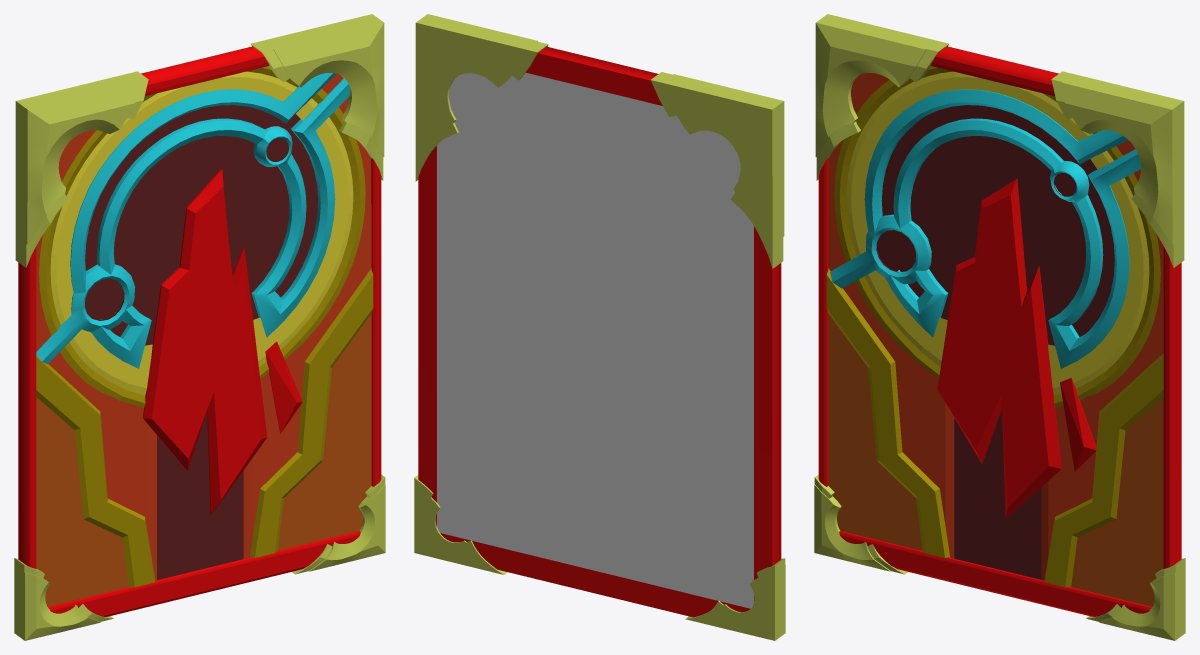
The model's file is cards 1.fbx.
3 renders of one model, left to right at view 1: azimuth 30°, elevation 25°; view 2: azimuth 150°, elevation 25°; view 3: azimuth 330°, elevation 25°, orthographic.
Parts seen in each view (by area): view 1: Cosmic, Gold, Crystal, Silver, DarkGold, Side, Frame, Blue, Stone; view 2: Mirror, Gold, Frame; view 3: Cosmic, Gold, Crystal, Silver, DarkGold, Side, Frame, Blue, Stone.
Part boxes in pixels (box(x1,y1,x2,y2)): Cosmic: box(85, 105, 318, 580); Gold: box(14, 14, 385, 640); Crystal: box(142, 169, 302, 514); Silver: box(36, 73, 349, 368); DarkGold: box(36, 66, 373, 587); Side: box(36, 314, 371, 606); Frame: box(18, 46, 381, 616); Blue: box(36, 73, 371, 580); Stone: box(50, 71, 353, 395); Mirror: box(437, 73, 753, 608); Gold: box(414, 14, 785, 640); Frame: box(418, 46, 781, 617); Cosmic: box(876, 105, 1114, 579); Gold: box(814, 14, 1185, 640); Crystal: box(937, 178, 1096, 518); Silver: box(830, 89, 1141, 368); DarkGold: box(826, 66, 1163, 587); Side: box(828, 314, 1163, 606); Frame: box(818, 46, 1181, 616); Blue: box(828, 73, 1163, 580); Stone: box(846, 71, 1149, 395).
Size of the model in its own units: 350 by 492 by 26.1.
